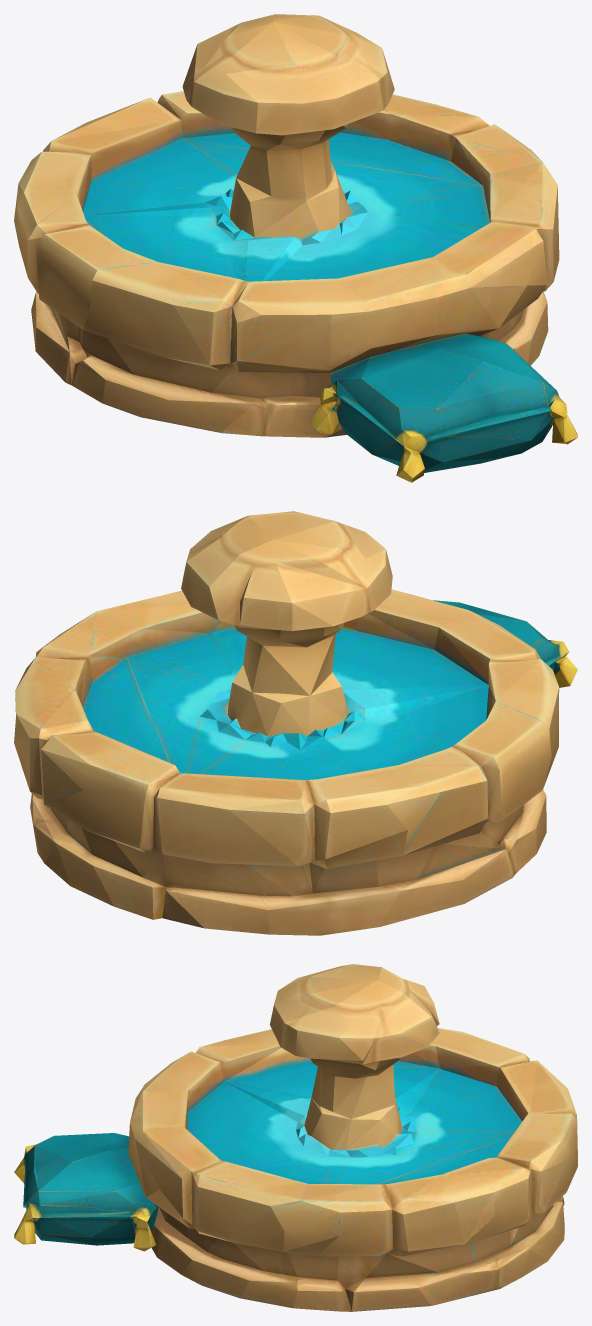
File: fonte-descanso.glb
The picture shows the model from 3 angles, top to bottom: view 1: azimuth 30°, elevation 25°; view 2: azimuth 150°, elevation 25°; view 3: azimuth 270°, elevation 25°; orthographic projection. The views are drawn at different scales.
Visible parts, largest first — view 1: Mesh_0; view 2: Mesh_0; view 3: Mesh_0.
Part boxes in pixels (left/top/right/bottom): Mesh_0: left=14, top=14, right=577, bottom=482; Mesh_0: left=14, top=511, right=577, bottom=935; Mesh_0: left=14, top=964, right=577, bottom=1311.
Bounding box in the file's own units: 1.51 × 0.9091 × 1.89.
1 material, 1 textured.
